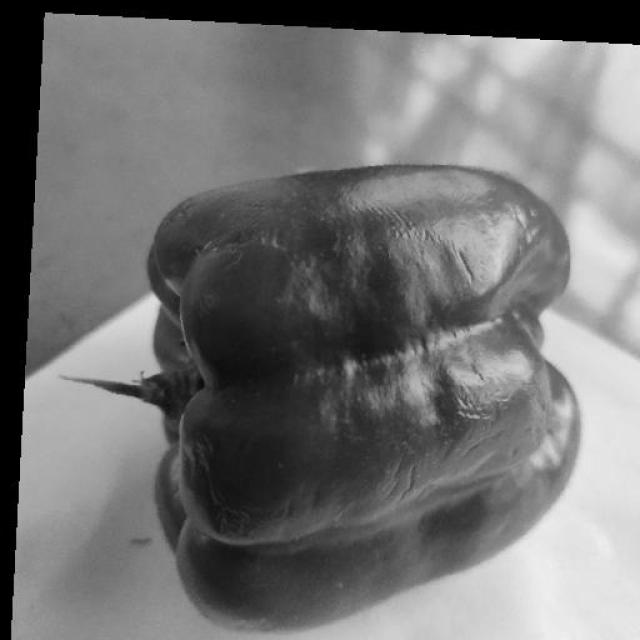Stale_Capsicum: (127, 162, 599, 586)
